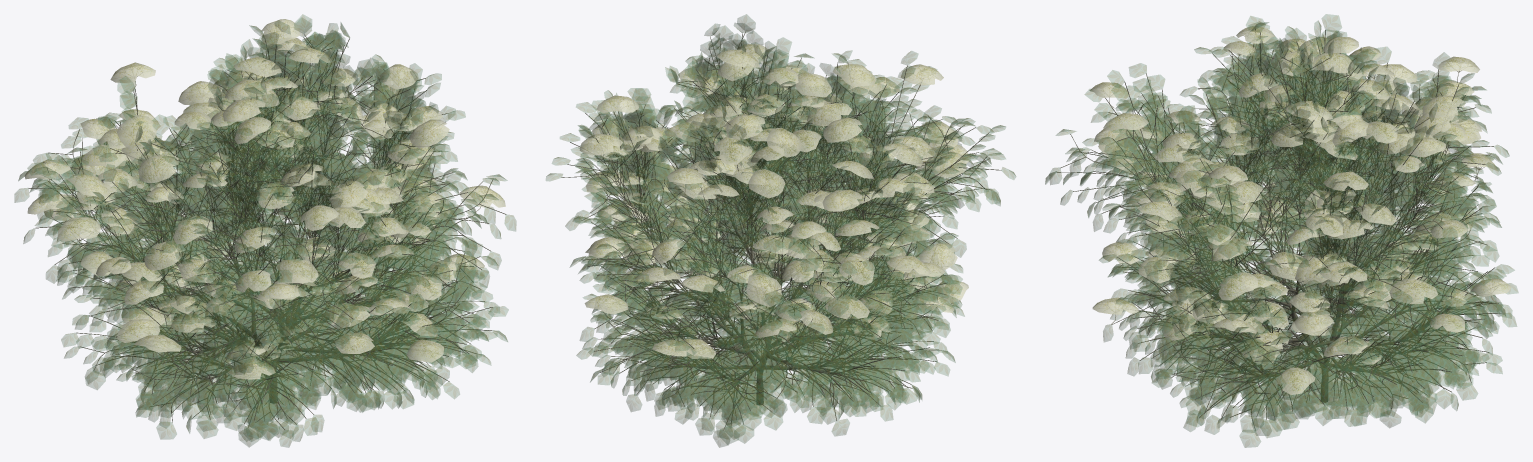
File: preview.glb
3 renders of one model, left to right at view 1: azimuth 30°, elevation 25°; view 2: azimuth 150°, elevation 25°; view 3: azimuth 270°, elevation 25°, orthographic. The views are drawn at different scales.
Visible parts, largest first — view 1: Shrub_Sambucus_nigra_B_Leaf_glb, Shrub_Sambucus_nigra_B_Flower_glb, Shrub_Sambucus_nigra_B_Bark_glb; view 2: Shrub_Sambucus_nigra_B_Leaf_glb, Shrub_Sambucus_nigra_B_Flower_glb, Shrub_Sambucus_nigra_B_Bark_glb; view 3: Shrub_Sambucus_nigra_B_Leaf_glb, Shrub_Sambucus_nigra_B_Flower_glb, Shrub_Sambucus_nigra_B_Bark_glb.
Part boxes in pixels (x1=…): Shrub_Sambucus_nigra_B_Leaf_glb: x1=14, y1=14, x2=516, y2=447; Shrub_Sambucus_nigra_B_Flower_glb: x1=24, y1=19, x2=505, y2=379; Shrub_Sambucus_nigra_B_Bark_glb: x1=28, y1=34, x2=506, y2=429; Shrub_Sambucus_nigra_B_Leaf_glb: x1=546, y1=14, x2=1015, y2=447; Shrub_Sambucus_nigra_B_Flower_glb: x1=579, y1=44, x2=970, y2=358; Shrub_Sambucus_nigra_B_Bark_glb: x1=561, y1=31, x2=1001, y2=430; Shrub_Sambucus_nigra_B_Leaf_glb: x1=1045, y1=14, x2=1518, y2=447; Shrub_Sambucus_nigra_B_Flower_glb: x1=1089, y1=26, x2=1511, y2=394; Shrub_Sambucus_nigra_B_Bark_glb: x1=1056, y1=29, x2=1501, y2=430.
Size of the model in its own units: 3.97 by 3.51 by 3.94.
3 materials, 3 textured.
